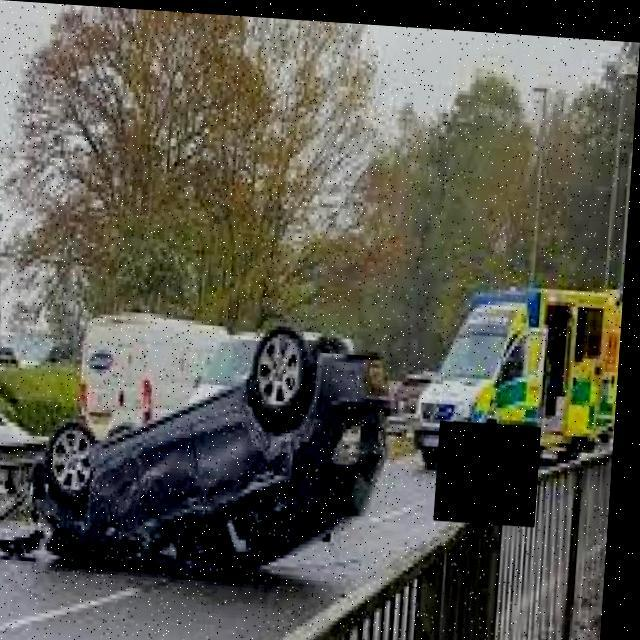normal: (413, 244, 640, 466)
single accident: (23, 337, 377, 571)
